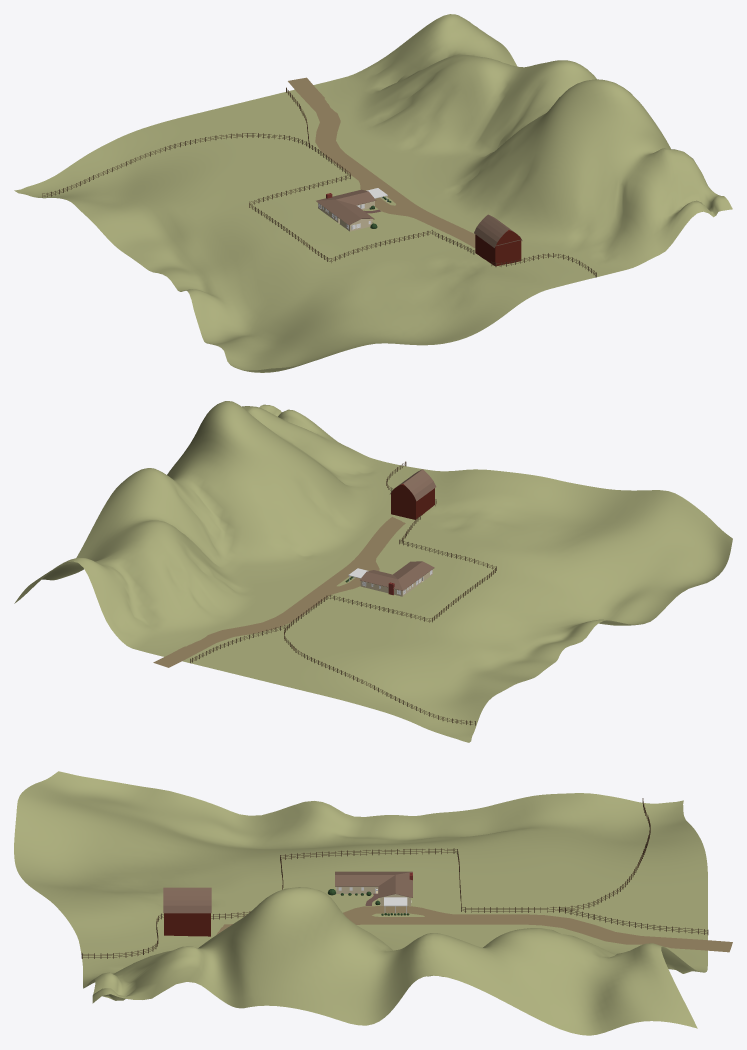
The model's file is house_test03.glb.
3 renders of one model, top to bottom at view 1: azimuth 30°, elevation 25°; view 2: azimuth 150°, elevation 25°; view 3: azimuth 270°, elevation 25°, orthographic. The views are drawn at different scales.
Visible parts, largest first — view 1: Ground, Road, BézierCurve, Barn, Roof; view 2: Ground, Road, BézierCurve, Barn, Roof; view 3: Ground, Road, BézierCurve, Barn, Roof, Walls.
Boxes of the visible parts, x1,y1,x2,y2 form: Ground: (14, 14, 732, 372); Road: (288, 77, 475, 247); BézierCurve: (42, 87, 596, 277); Barn: (474, 214, 522, 266); Roof: (316, 189, 375, 225); Ground: (14, 401, 732, 742); Road: (153, 516, 405, 667); BézierCurve: (190, 461, 496, 725); Barn: (390, 469, 436, 519); Roof: (360, 561, 434, 590); Ground: (14, 771, 707, 1035); Road: (216, 906, 732, 952); BézierCurve: (81, 798, 708, 958); Barn: (163, 887, 211, 936); Roof: (335, 871, 412, 897); Walls: (336, 872, 412, 905).
Size of what is drawn, in the model's own units: 214 by 60.12 by 230.
